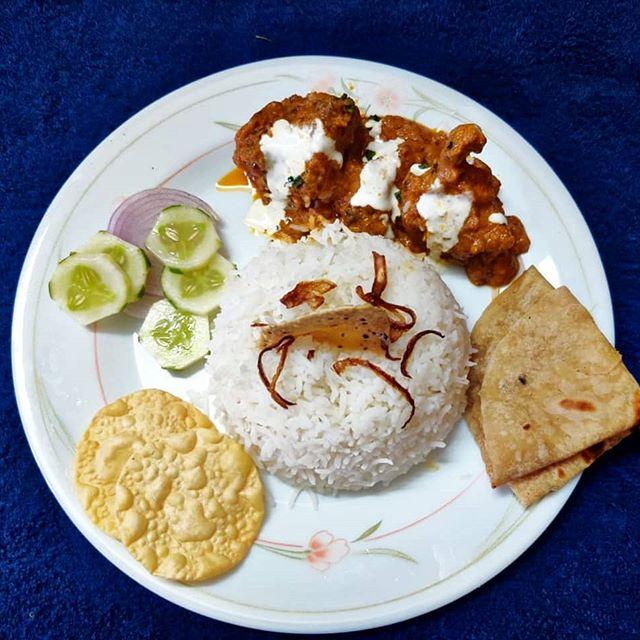Roti: (471, 278, 633, 492)
White Rice: (197, 224, 466, 480)
